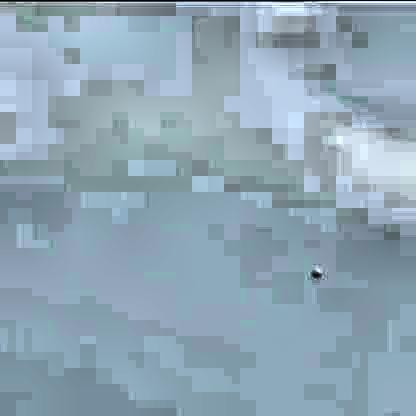golfball: (308, 262, 319, 275)
